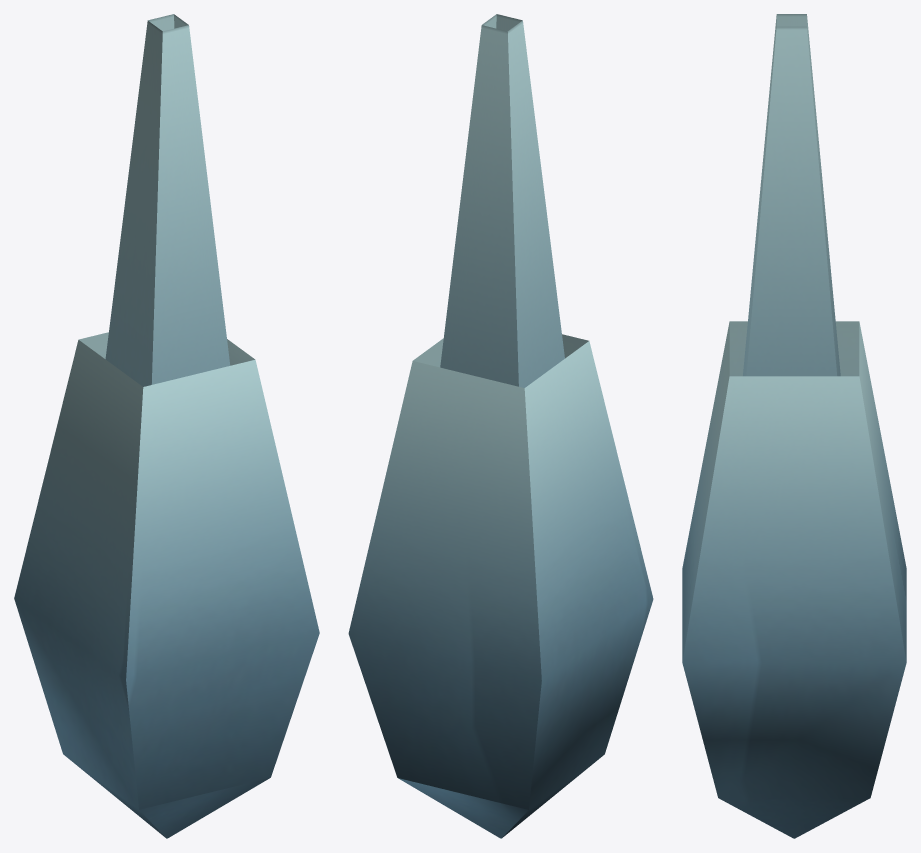
Rendered from WEBGOO.obj.
3 renders of one model, left to right at view 1: azimuth 30°, elevation 25°; view 2: azimuth 150°, elevation 25°; view 3: azimuth 270°, elevation 25°, orthographic.
Visible parts, largest first — view 1: Sphere01; view 2: Sphere01; view 3: Sphere01.
Boxes of the visible parts, left/top/right/bottom form: Sphere01: left=14, top=14, right=319, bottom=838; Sphere01: left=348, top=14, right=653, bottom=838; Sphere01: left=682, top=14, right=906, bottom=838.
Bounding box in the file's own units: 8.79 × 35.4 × 8.79.
